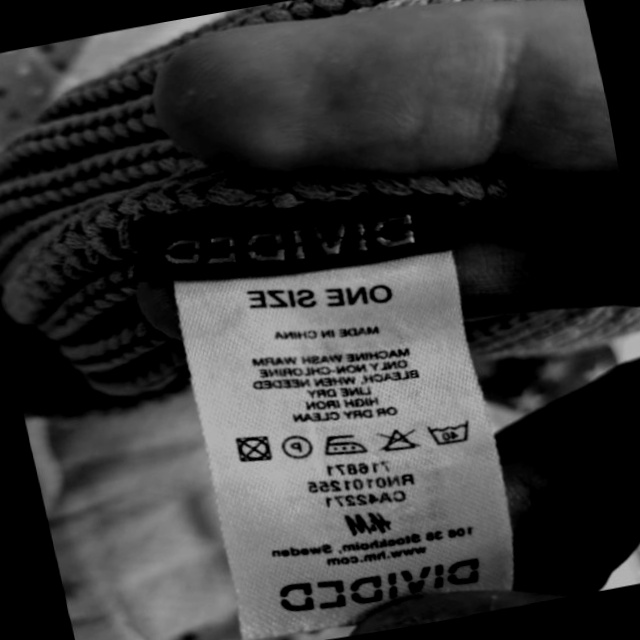40C: (422, 410, 474, 452)
DN_bleach: (373, 420, 419, 458)
DN_tumble_dry: (231, 426, 276, 467)
dry_clean_any_solvent_except_trichloroethylene: (279, 430, 315, 463)
iron_high: (320, 427, 366, 461)
